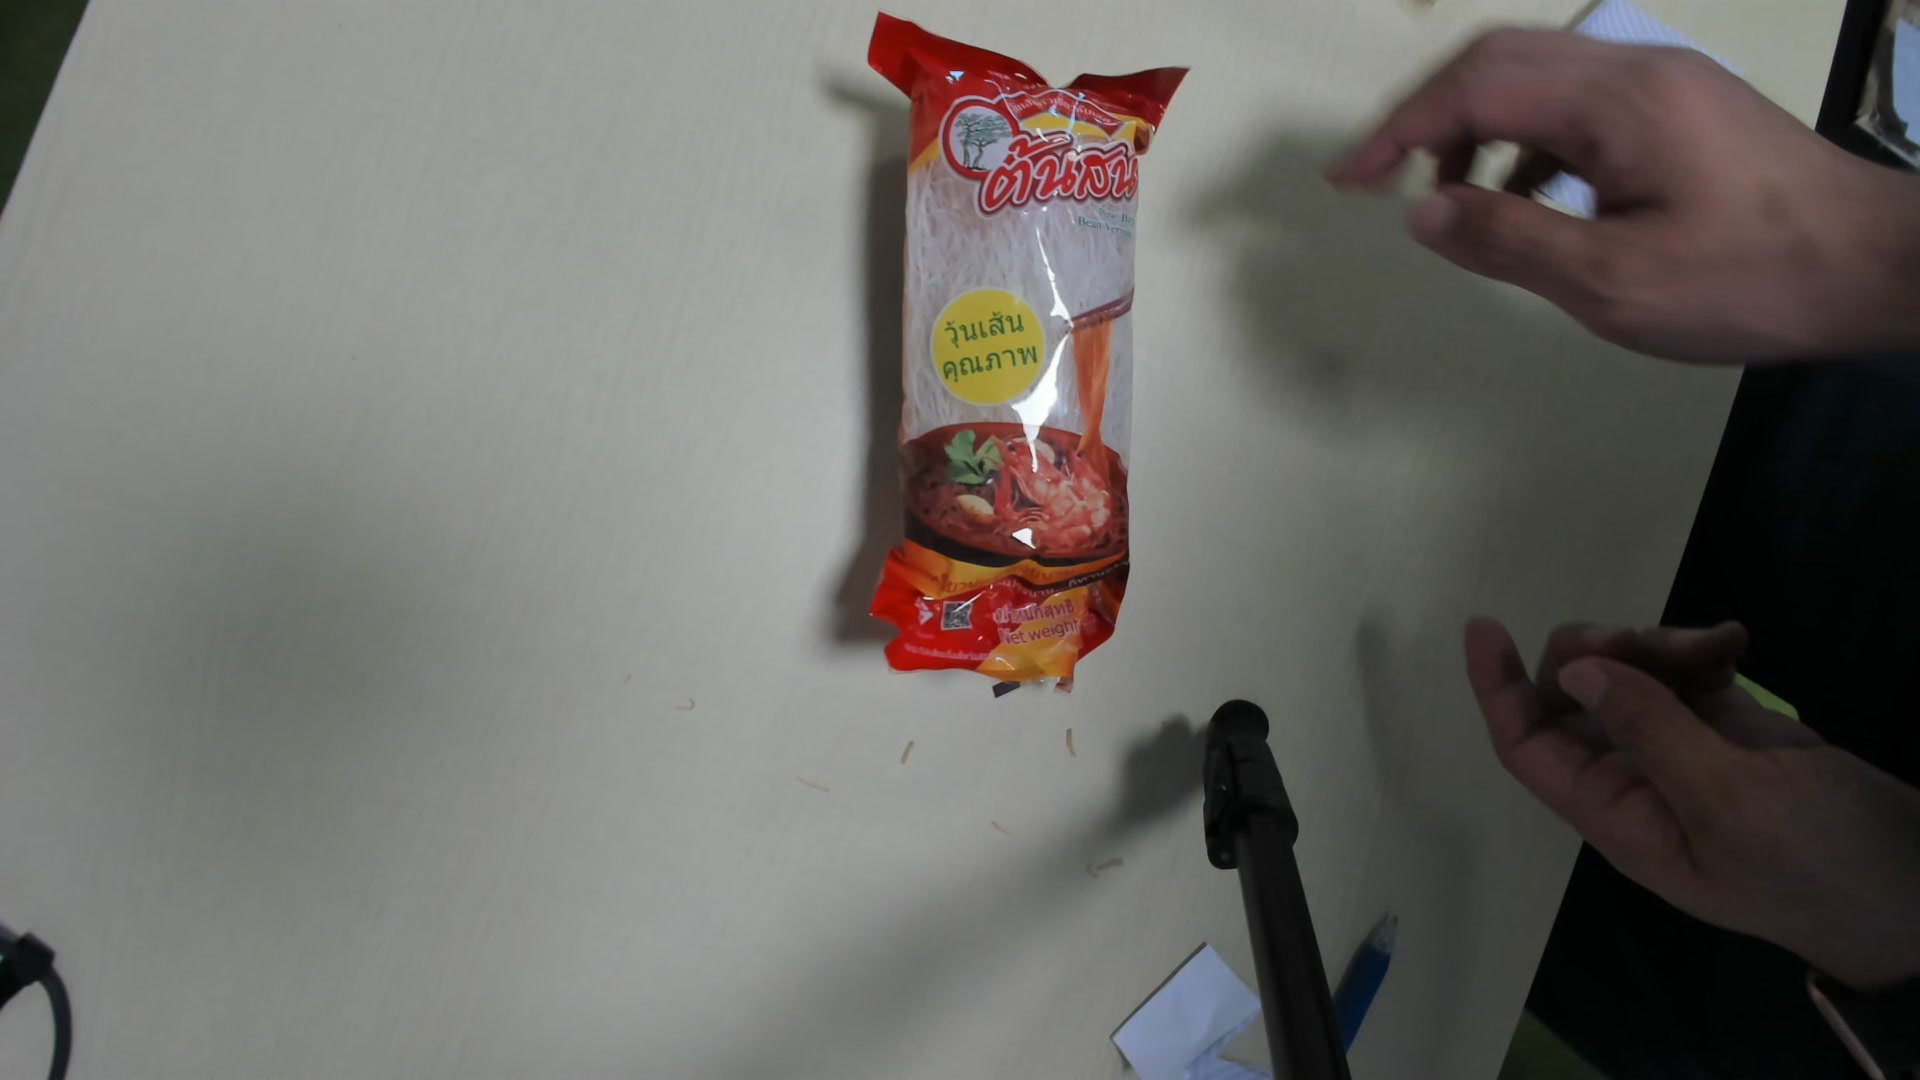BeeHoonVermicelli_0-99g_NonHalal_NonHealthy: (856, 15, 1178, 695)
